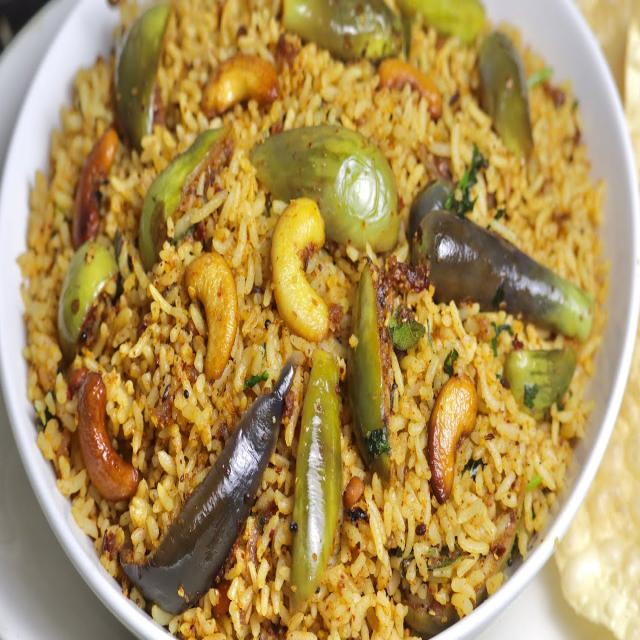vangi bath: (15, 0, 617, 640)
